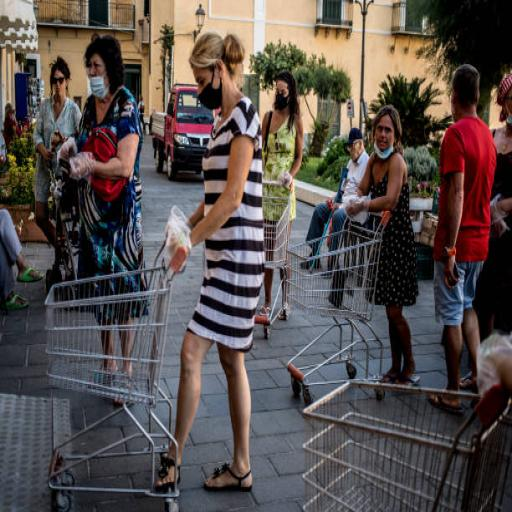shopping_cart: (41, 225, 188, 512), (301, 378, 512, 512), (282, 202, 393, 406), (255, 176, 295, 340)
